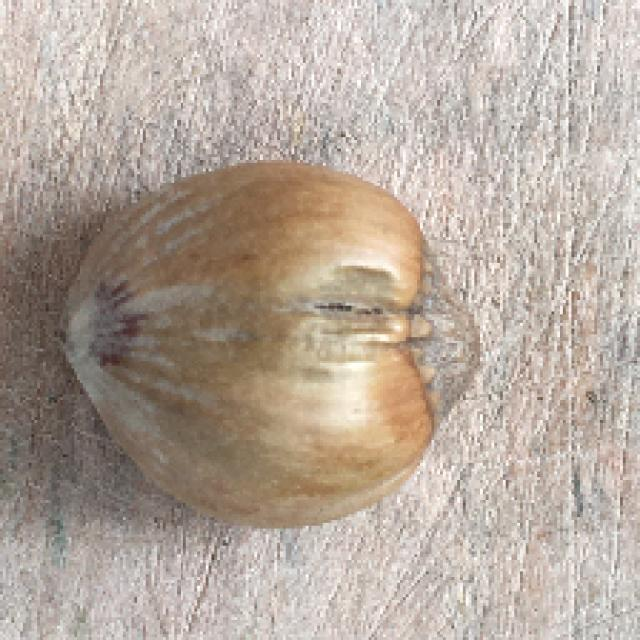damagedHazelnut: (50, 158, 494, 534)
